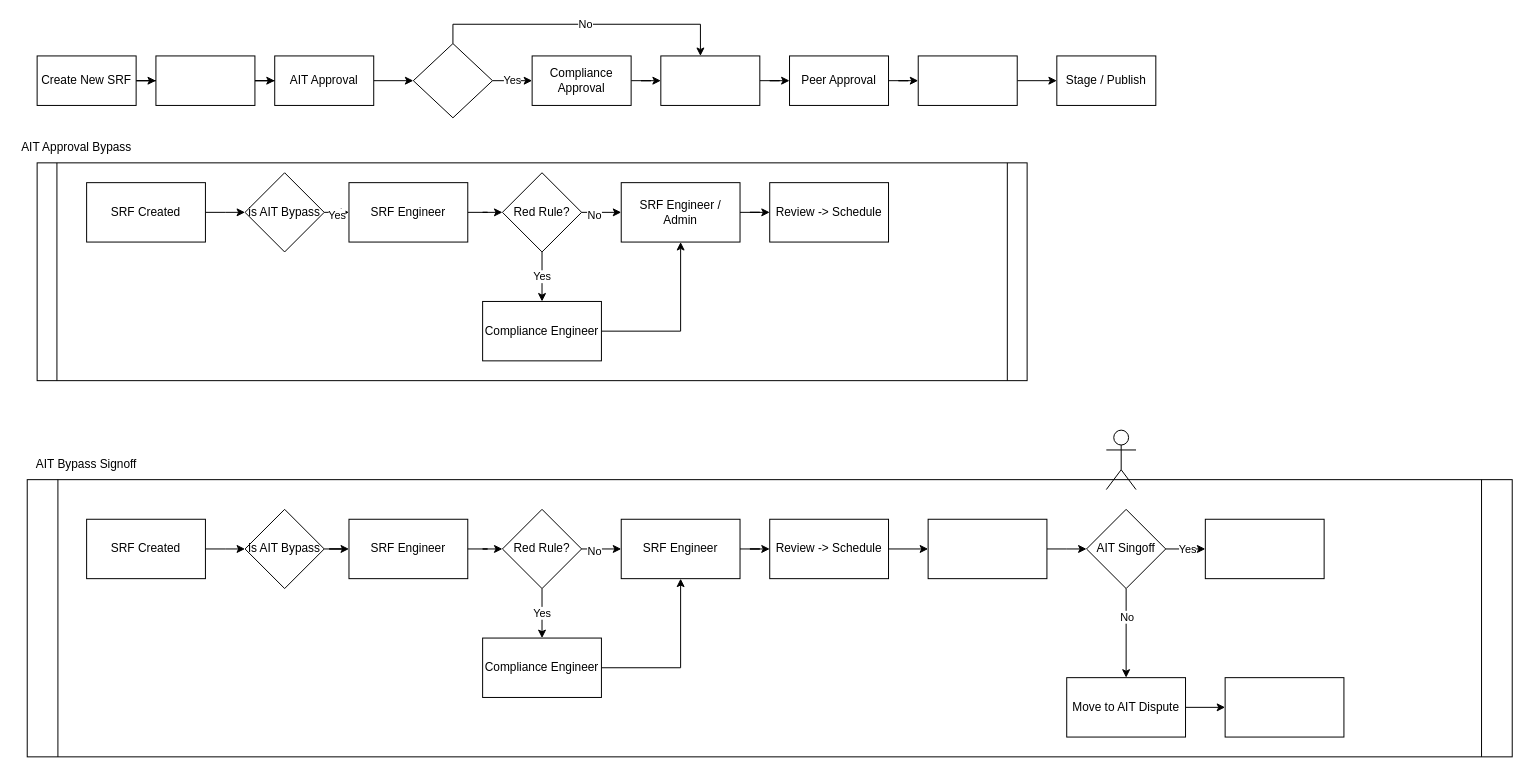
The diagram is 1530 pixels wide and 774 high, and some of its shapes have lost their labels. Each missing label, with the box of its shape:
AIT Owner: (1105, 429, 1136, 490)
Deployed: (1204, 518, 1324, 579)
Firewall Engineer Approval: (660, 55, 760, 105)
is Red rule?: (412, 43, 493, 118)
Provide CRQ Ticket: (917, 55, 1017, 105)
Remediation Engineer: (1224, 677, 1344, 737)
Risk Assessment: (155, 55, 255, 105)
SRF Deployed: (927, 518, 1047, 579)
